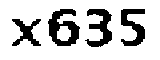3: (83, 8, 114, 51)
5: (117, 7, 151, 50)
6: (45, 5, 82, 51)
x: (8, 17, 43, 53)
